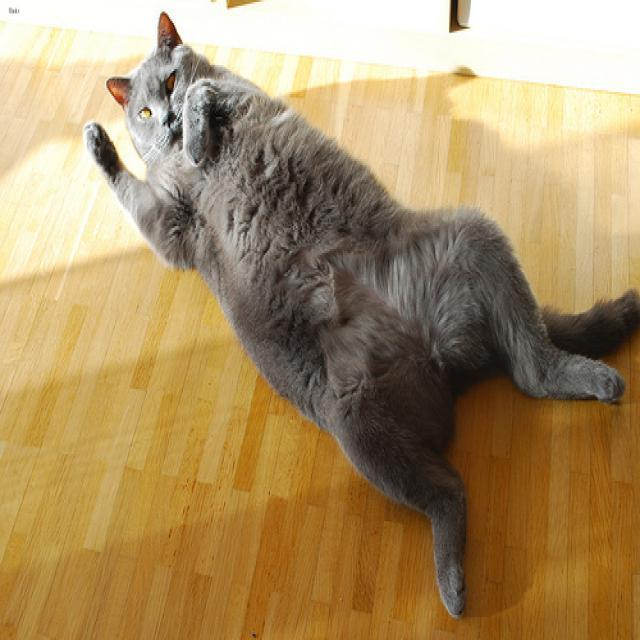British_Shorthair: (105, 10, 209, 157)
